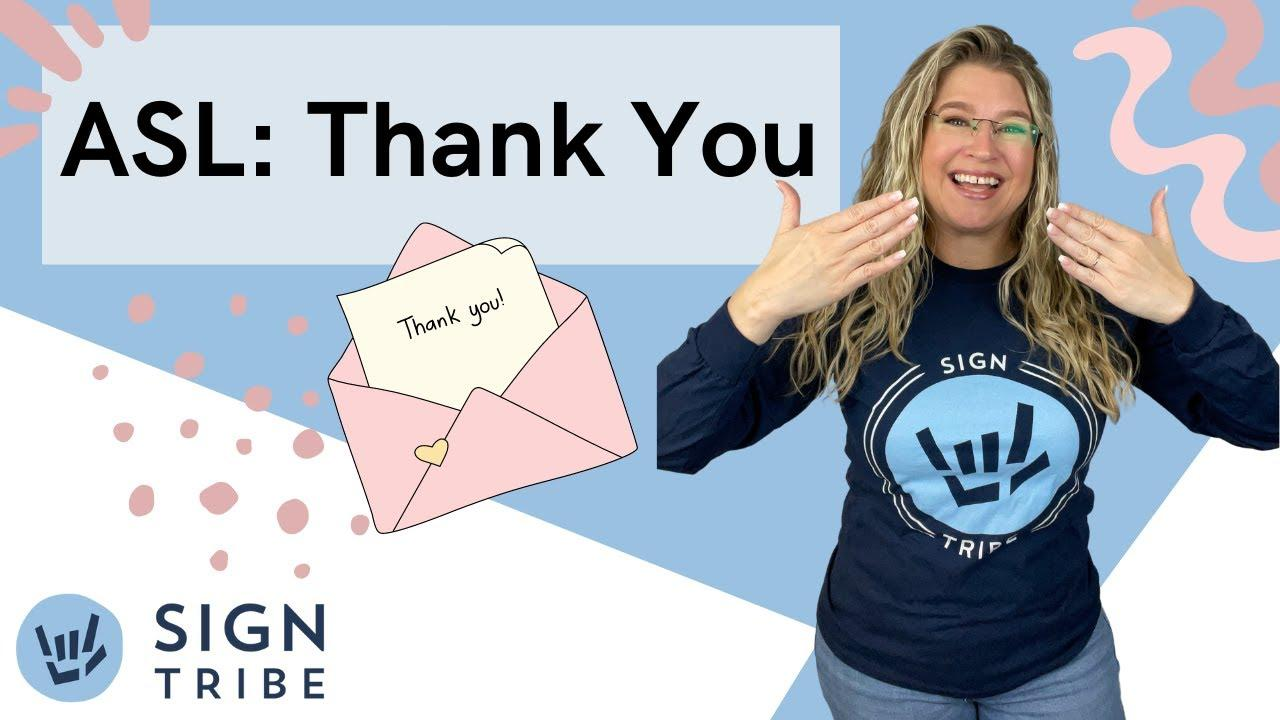Thankyou: (725, 176, 1227, 357)
